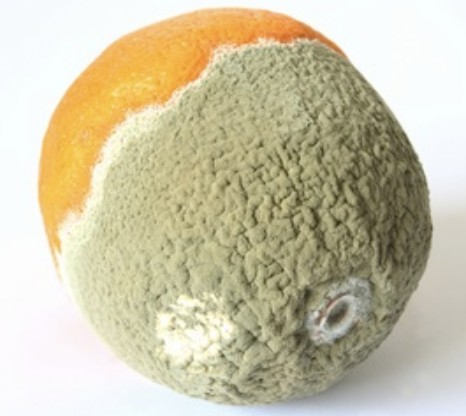rotten_orange: (40, 8, 433, 404)
